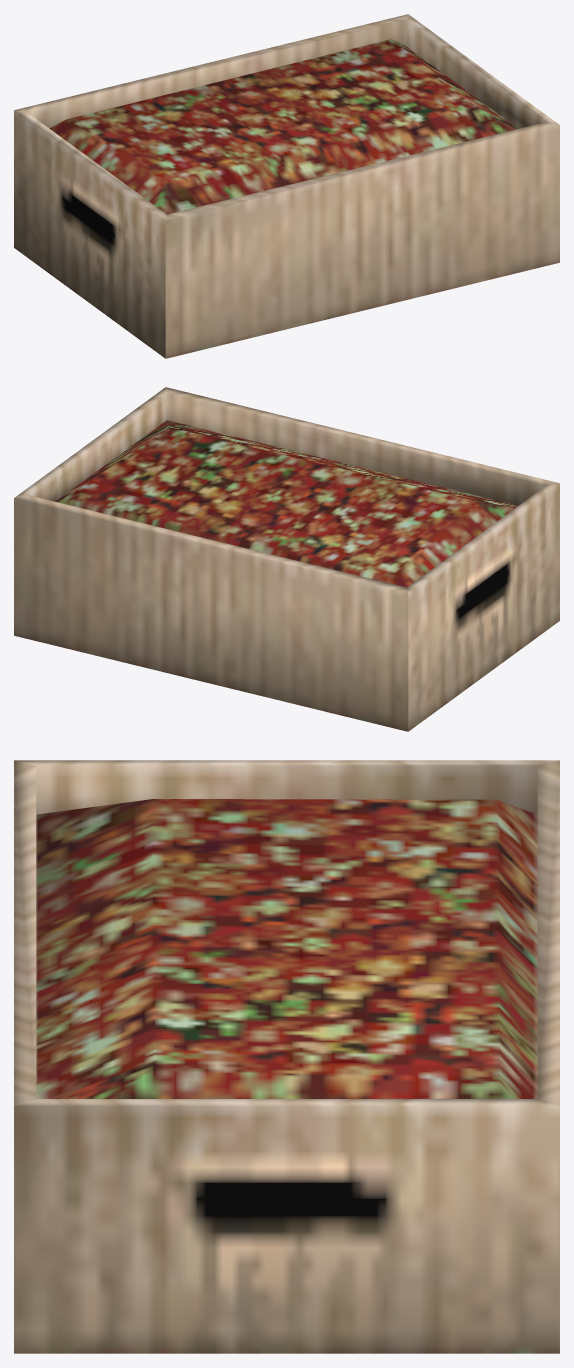
Rendered from VegBox01_Strawberries.glb.
3 renders of one model, top to bottom at view 1: azimuth 30°, elevation 25°; view 2: azimuth 150°, elevation 25°; view 3: azimuth 270°, elevation 25°, orthographic. The views are drawn at different scales.
Visible parts, largest first — view 1: VEGBOX01_STRAWBERRIES; view 2: VEGBOX01_STRAWBERRIES; view 3: VEGBOX01_STRAWBERRIES.
Part boxes in pixels (x1,y1,x2,y2): VEGBOX01_STRAWBERRIES: [14, 14, 559, 358]; VEGBOX01_STRAWBERRIES: [14, 387, 559, 731]; VEGBOX01_STRAWBERRIES: [14, 760, 559, 1353].
Bounding box in the file's own units: 0.96 × 0.321 × 0.64.
1 material, 1 textured.
